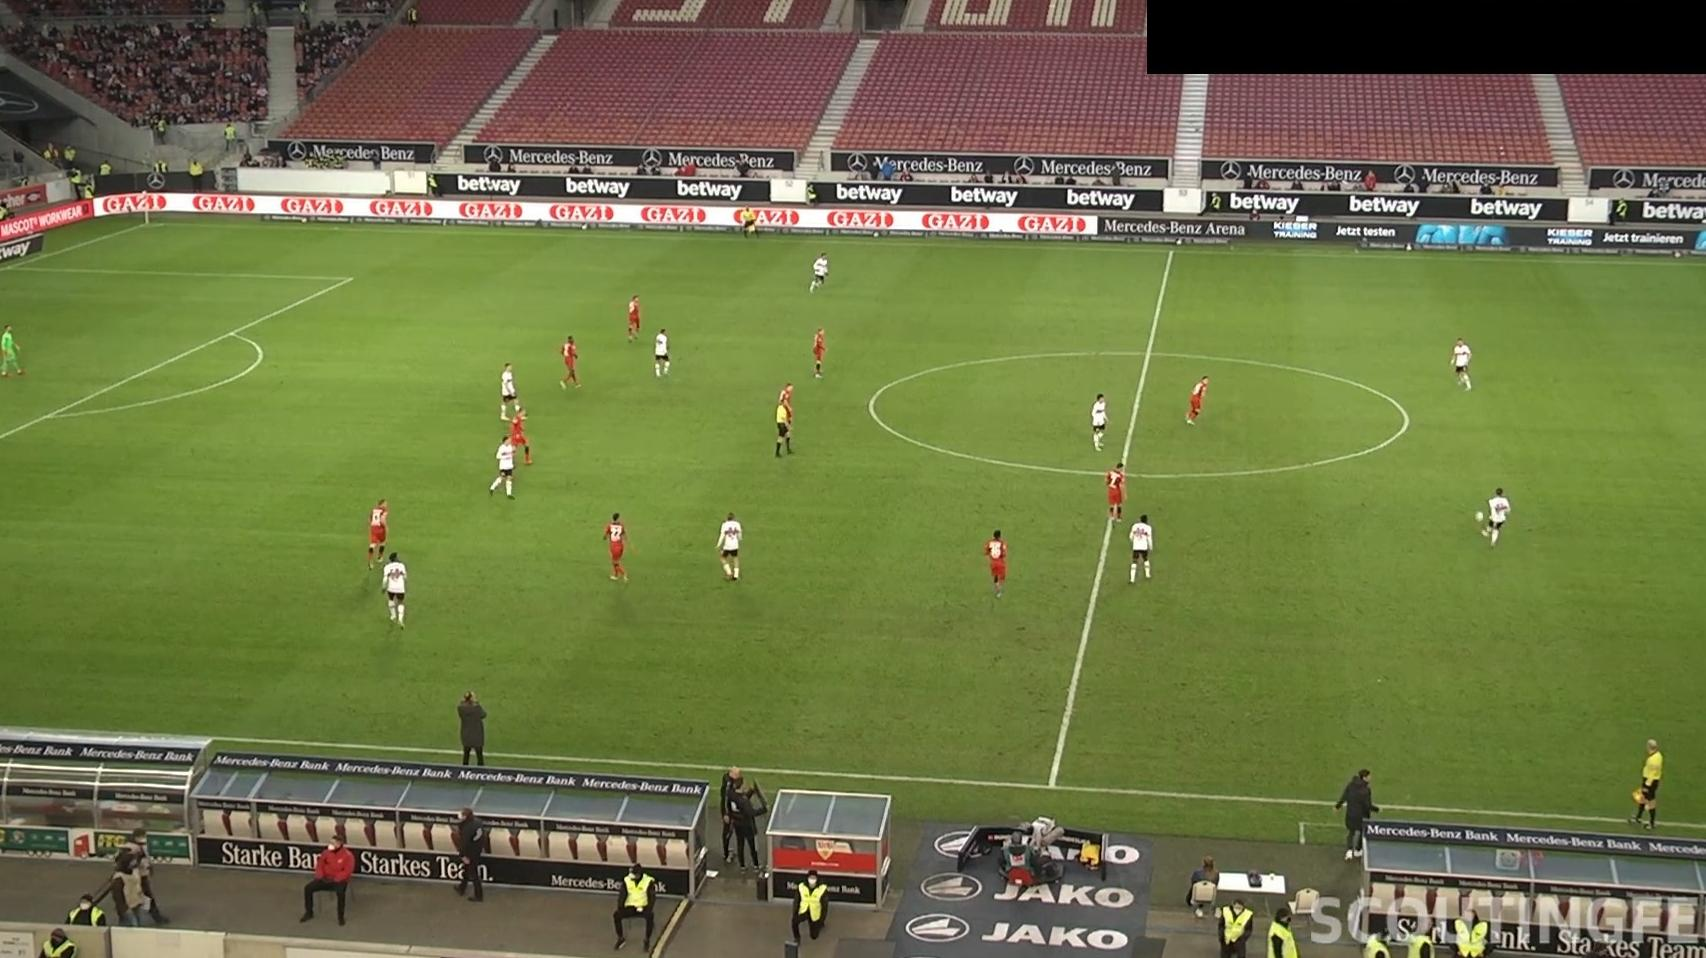ball: (1473, 509, 1485, 524)
